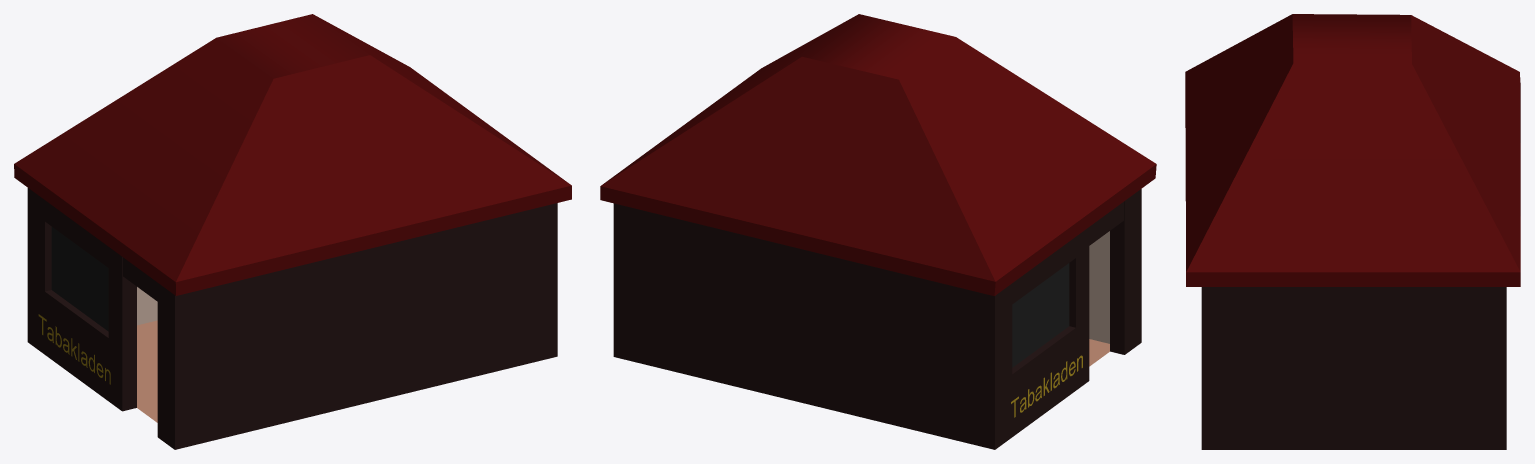
File: tabakladen.dae
The picture shows the model from 3 angles, left to right: view 1: azimuth 30°, elevation 25°; view 2: azimuth 150°, elevation 25°; view 3: azimuth 270°, elevation 25°; orthographic projection. The views are drawn at different scales.
Parts seen in each view (by area): view 1: roof, house, window2, pCube2, TextPlus001; view 2: roof, house, window2, pCube2, TextPlus001; view 3: roof, house.
Part boxes in pixels (x1,y1,x2,y2): roof: [14, 14, 571, 295]; house: [27, 188, 557, 449]; window2: [51, 227, 108, 331]; pCube2: [123, 257, 157, 301]; TextPlus001: [38, 314, 110, 384]; roof: [600, 14, 1156, 296]; house: [613, 189, 1141, 449]; window2: [1012, 263, 1069, 367]; pCube2: [1089, 202, 1123, 245]; TextPlus001: [1011, 355, 1082, 417]; roof: [1185, 14, 1520, 286]; house: [1201, 287, 1506, 449].
Size of the model in its own units: 245 by 173 by 179.
